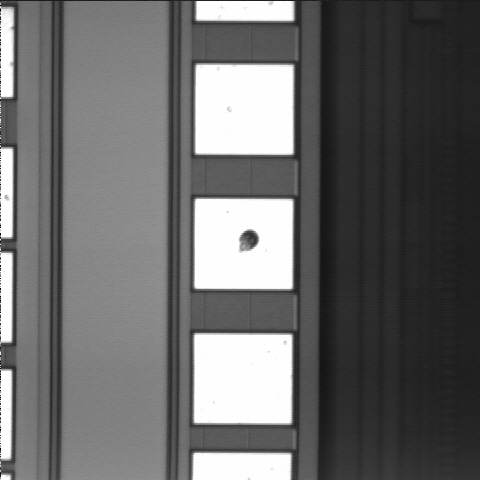pad: (195, 65, 293, 155), (195, 199, 293, 289), (194, 334, 292, 424)
